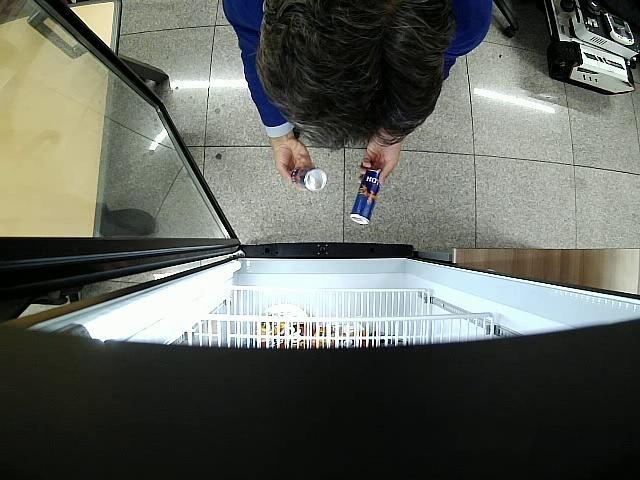16_hot6: (350, 169, 380, 224), (291, 166, 327, 192)
